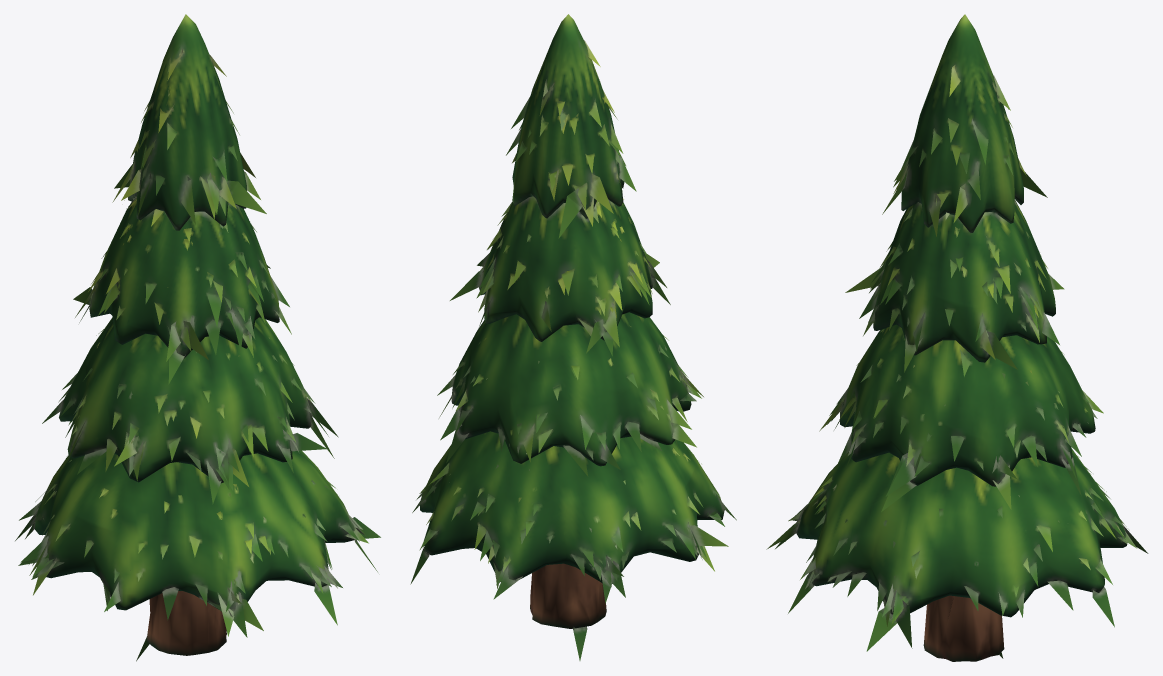
Rendered from pine_c.glb.
3 renders of one model, left to right at view 1: azimuth 30°, elevation 25°; view 2: azimuth 150°, elevation 25°; view 3: azimuth 270°, elevation 25°, orthographic. The views are drawn at different scales.
Parts seen in each view (by area): view 1: pine_c; view 2: pine_c; view 3: pine_c.
Boxes of the visible parts, x1,y1,x2,y2 form: pine_c: [15, 14, 380, 661]; pine_c: [410, 14, 736, 660]; pine_c: [766, 14, 1148, 661].
Size of the model in its own units: 2.26 by 4.27 by 2.24.
1 material, 1 textured.
